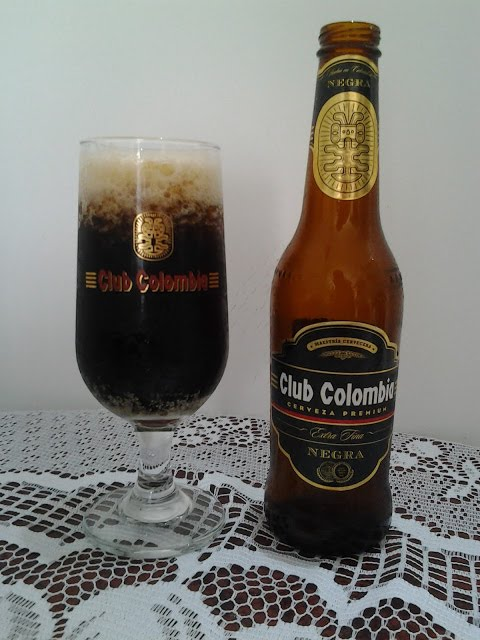botella: (263, 17, 406, 564)
